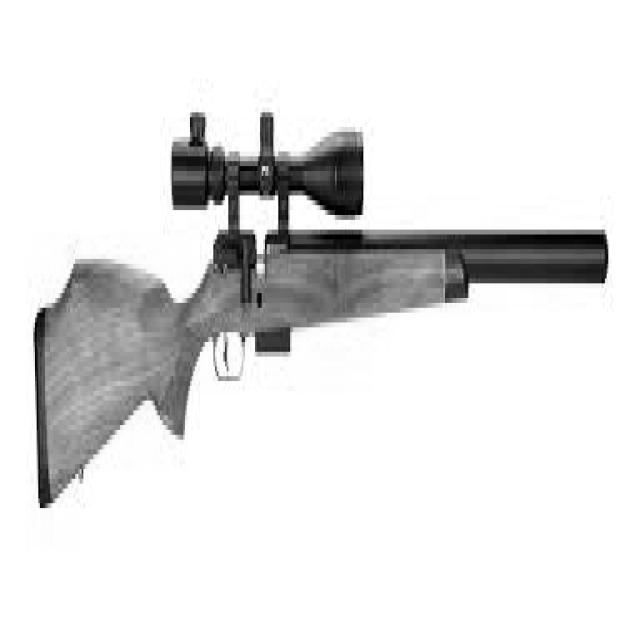rifle: (37, 117, 610, 516)
